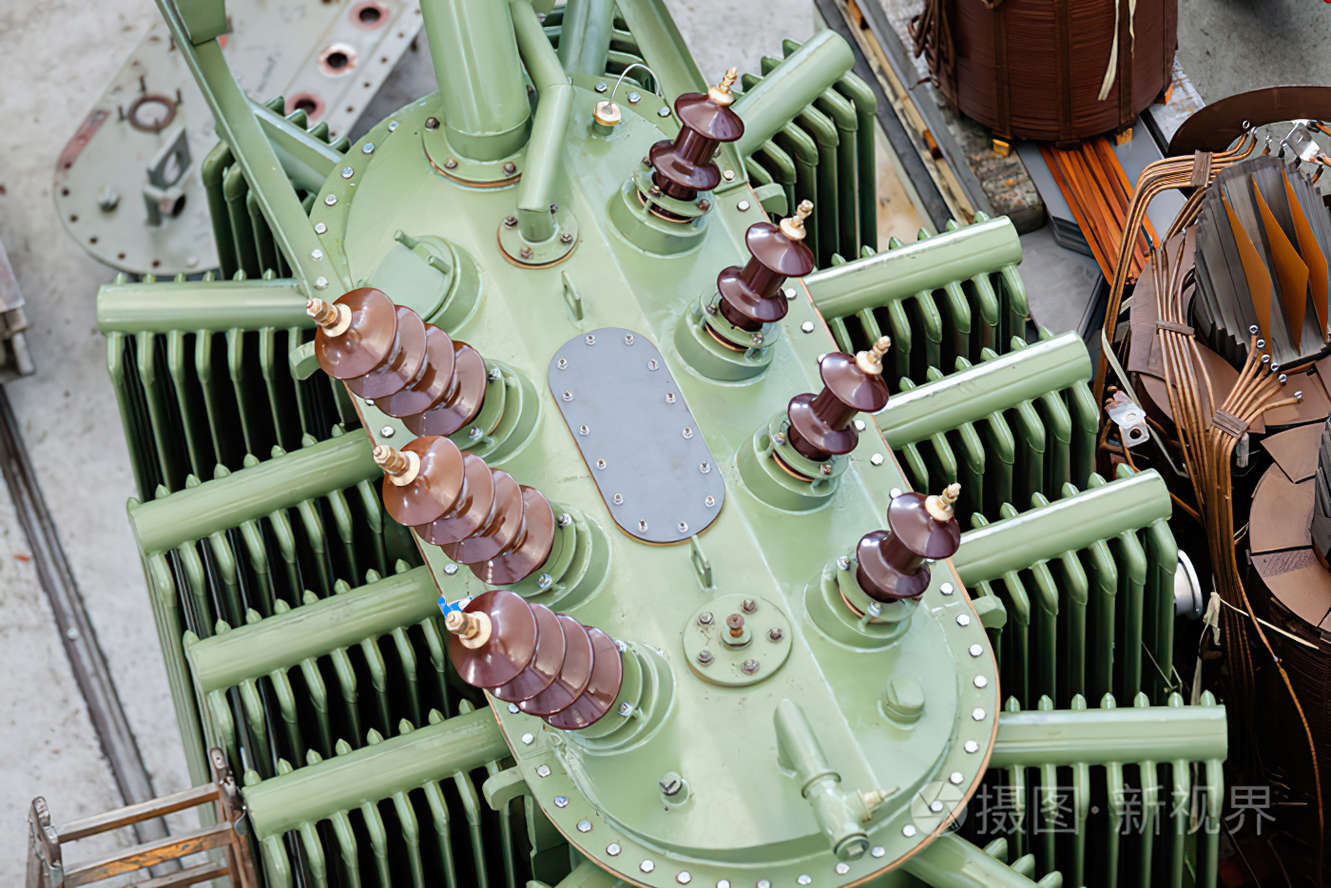insulator: (383, 440, 558, 574), (455, 599, 624, 729), (321, 297, 478, 420), (858, 497, 956, 603), (645, 92, 739, 199), (719, 222, 812, 326), (790, 360, 887, 455)
